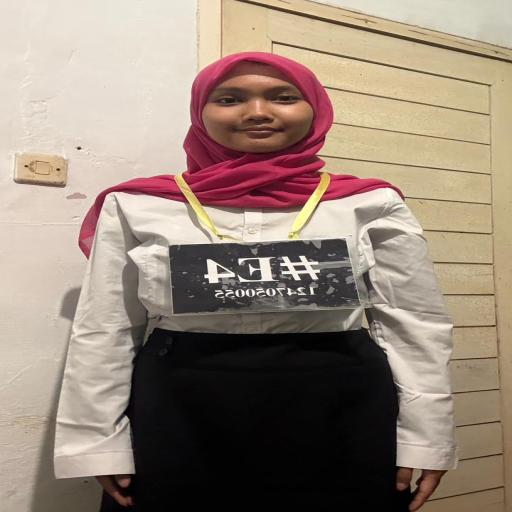kemeja_benar: (76, 194, 440, 336)
kerudung_benar: (85, 52, 424, 209)
nametag_ada: (162, 188, 368, 322)
rok_benar: (128, 332, 405, 512)
